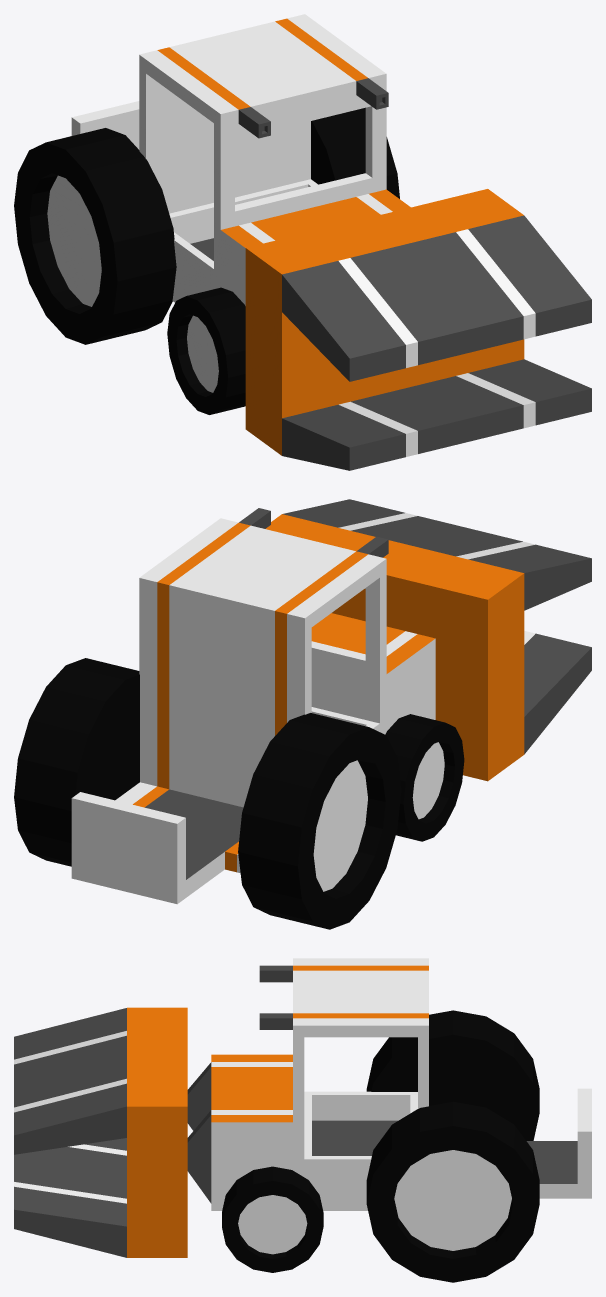
The model's file is Truck.fbx.
3 views of the same model, one above another, from view 1: azimuth 30°, elevation 25°; view 2: azimuth 150°, elevation 25°; view 3: azimuth 270°, elevation 25° (orthographic). The views are drawn at different scales.
Parts seen in each view (by area): view 1: Cube; view 2: Cube; view 3: Cube.
Boxes of the visible parts, x1,y1,x2,y2 form: Cube: [14, 14, 591, 470]; Cube: [14, 499, 591, 929]; Cube: [14, 958, 591, 1282].
Bounding box in the file's own units: 1258 × 1182 × 2658.
1 material, 1 textured.
